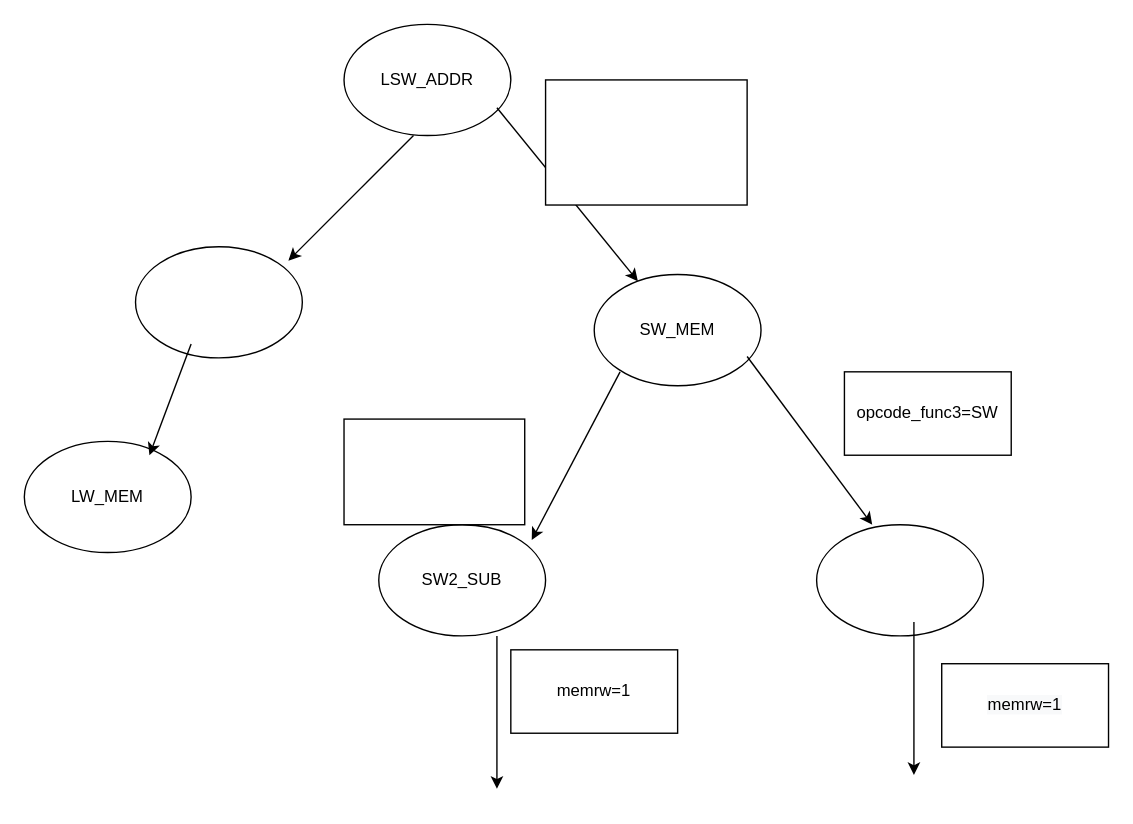
Some shapes in this 1133 by 824 pixel diagram are drawn without their labels. Here are the shapes that lost their labels. From the top down, the centre of each, then its label:
point 645,142: opcode_func3=SW/ SW2 immsel=IMM_S asel=ALUA_REG bsel=ALUB_IMM alusel=ALU_ADD
point 218,301: LW_HOLD
point 434,471: opcode_func3=SW2 asel=ALUA_0 bsel=ALU_BREG alusel=ALU_SUB
point 899,579: SW_CONT
